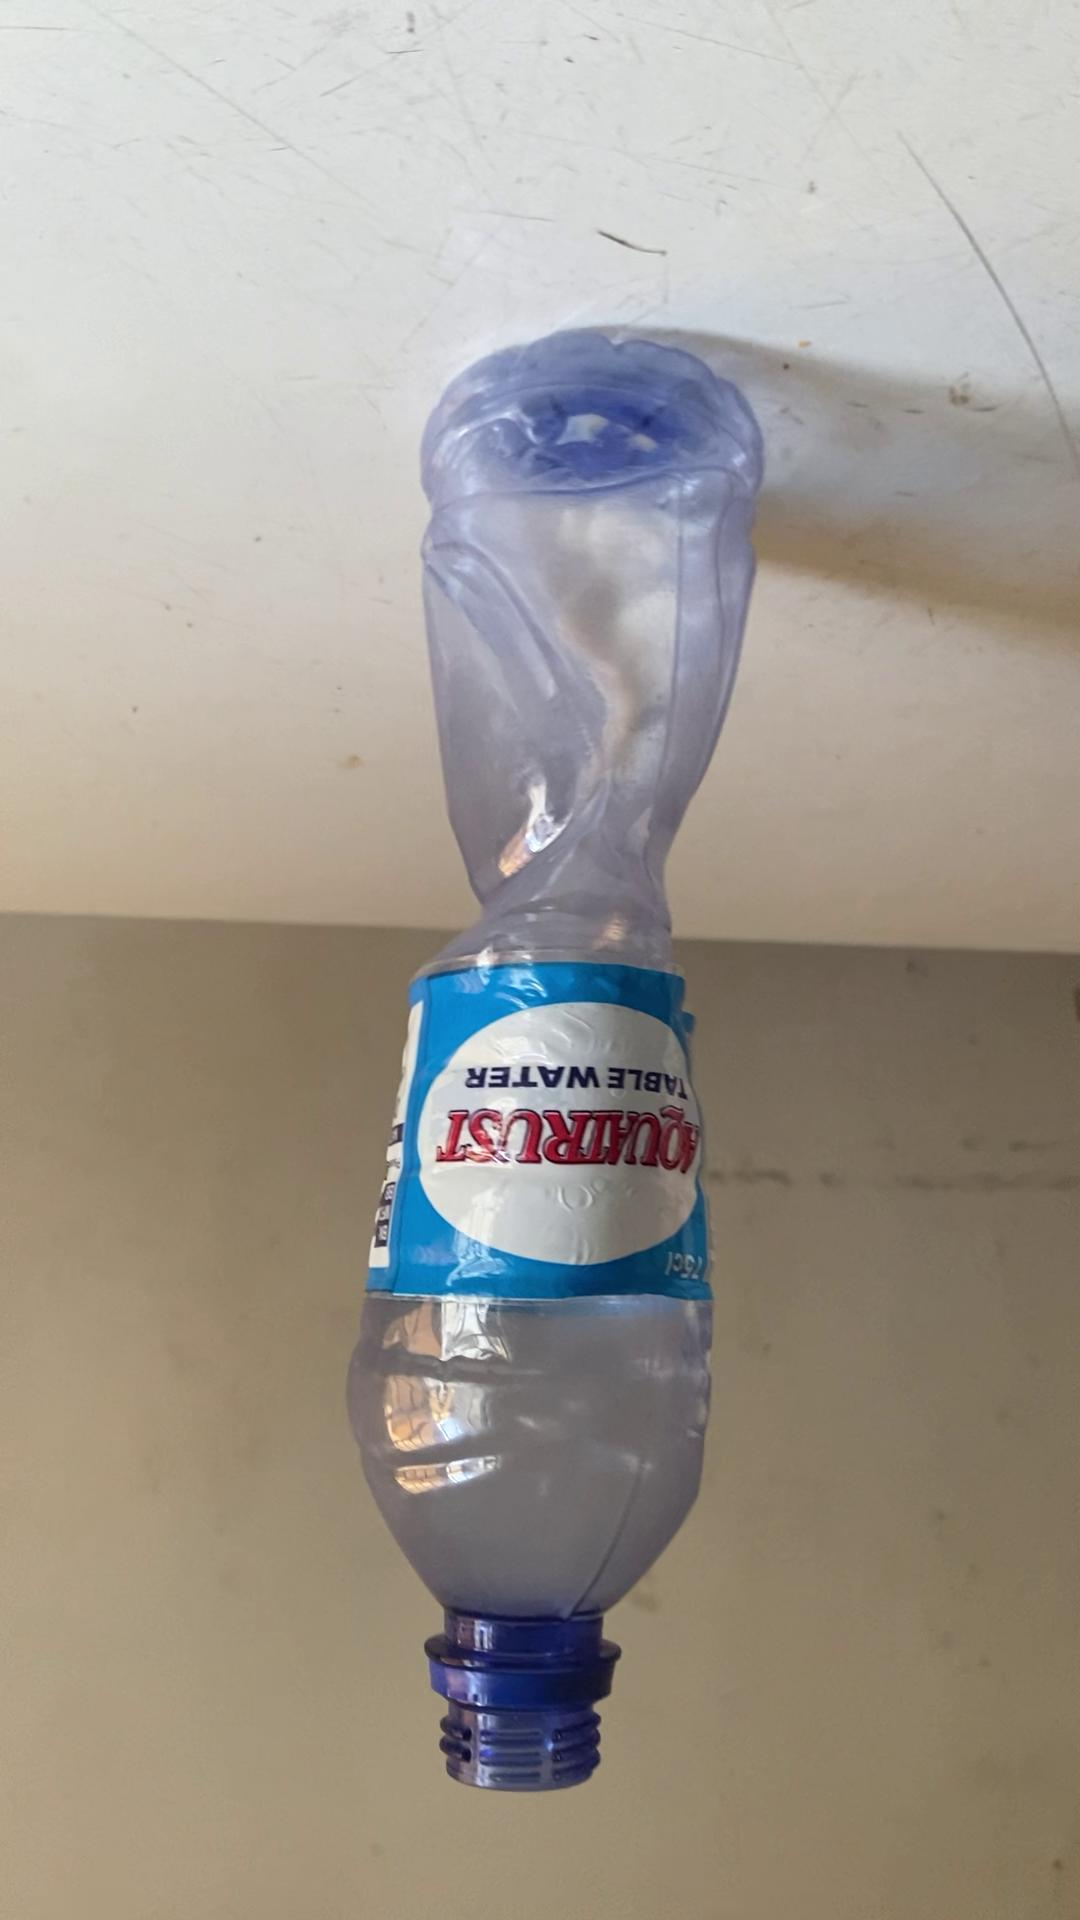crumbled: (336, 323, 775, 1796)
label: (378, 971, 712, 1299)
no-cap: (431, 1665, 612, 1797)
